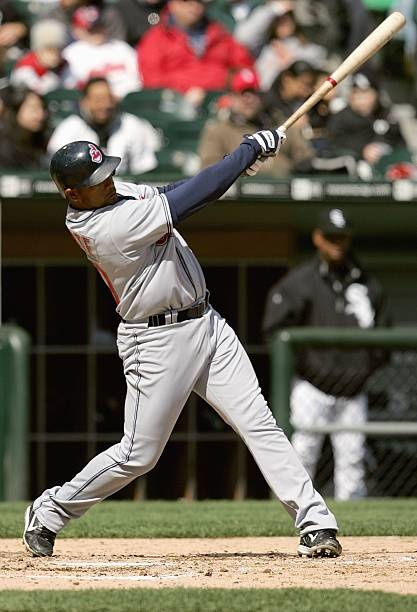bita: (273, 11, 402, 143)
